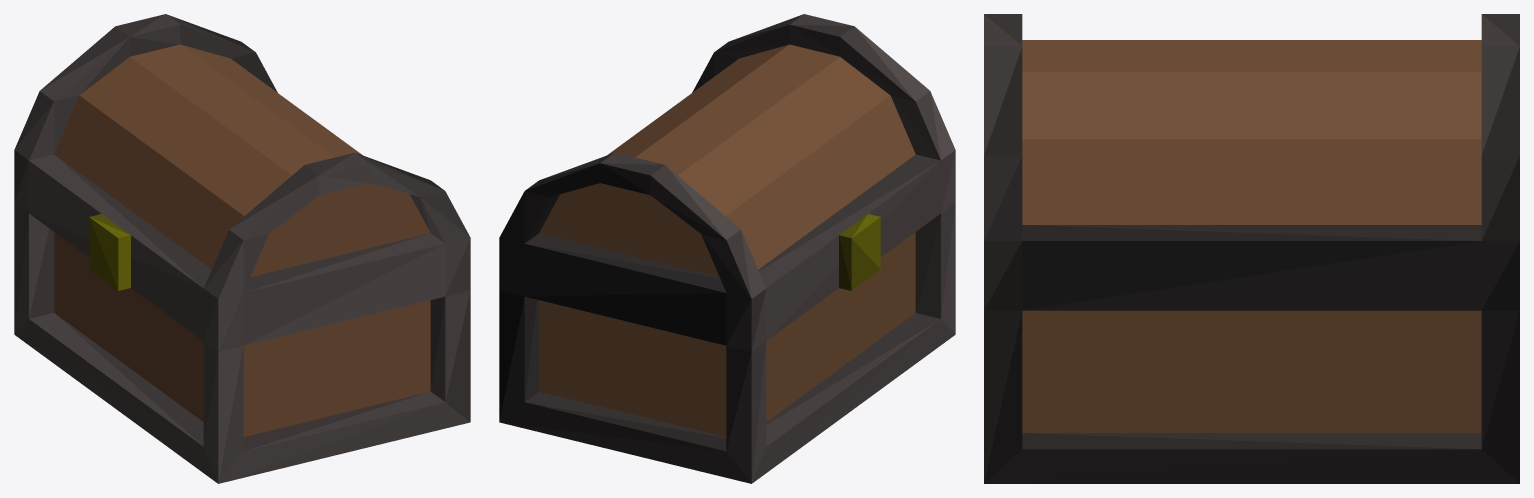
Rendered from chest.obj.
3 renders of one model, left to right at view 1: azimuth 30°, elevation 25°; view 2: azimuth 150°, elevation 25°; view 3: azimuth 270°, elevation 25°, orthographic. The views are drawn at different scales.
Parts seen in each view (by area): view 1: Object Closed chest 2026-09-12_20-21-15; view 2: Object Closed chest 2026-09-12_20-21-15; view 3: Object Closed chest 2026-09-12_20-21-15.
Part boxes in pixels (box(x1,y1,x2,y2)): Object Closed chest 2026-09-12_20-21-15: box(14, 14, 470, 483); Object Closed chest 2026-09-12_20-21-15: box(499, 14, 955, 483); Object Closed chest 2026-09-12_20-21-15: box(984, 14, 1519, 483).
Bounding box in the file's own units: 84 × 86 × 112.
